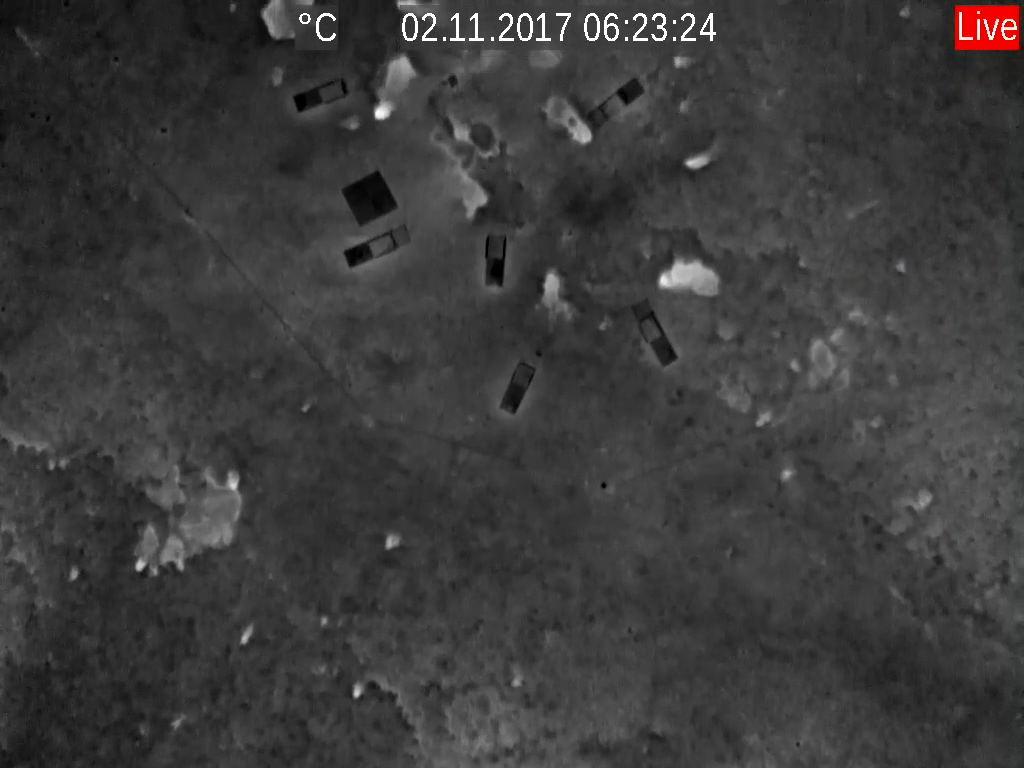warren: (443, 120, 502, 218), (647, 244, 723, 304), (536, 93, 598, 149), (540, 265, 577, 318), (672, 139, 723, 174), (127, 537, 161, 577), (368, 90, 401, 126), (664, 45, 699, 76), (232, 617, 259, 650), (351, 673, 372, 704), (380, 530, 404, 555)
